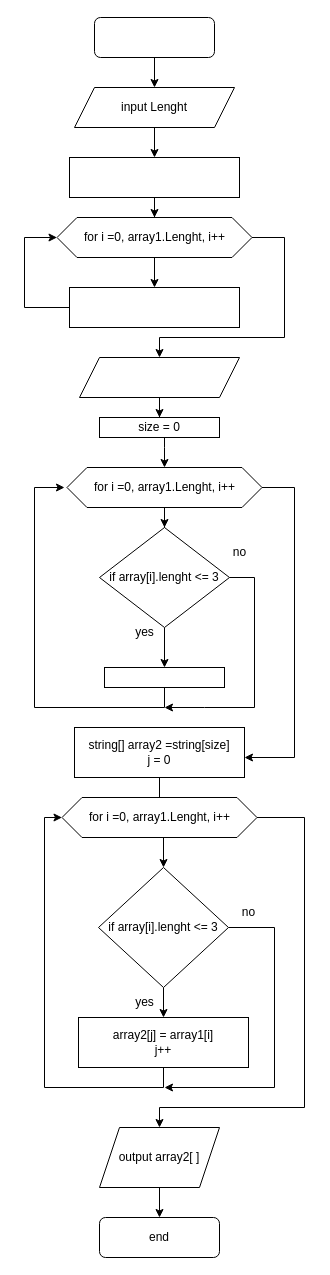
The diagram is 330 pixels wide and 1275 high, and some of its shapes have lost their labels. Here are the shapes that lost their labels. From the top down, the centre of each, then its label:
(154,37): Start
(154,177): string[] array1 = string[lenght]
(154,307): array1[i] =console input
(159,377): output array1[ ]
(164,677): size++
